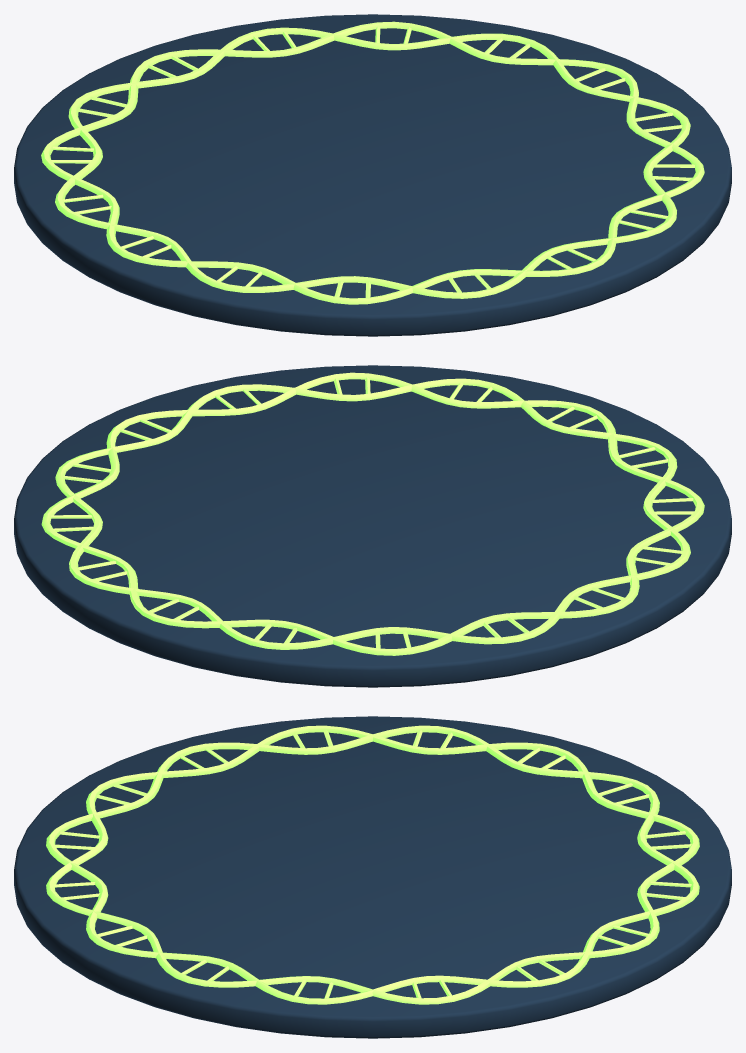
File: PlazaCentro.fbx
3 renders of one model, top to bottom at view 1: azimuth 30°, elevation 25°; view 2: azimuth 150°, elevation 25°; view 3: azimuth 270°, elevation 25°, orthographic.
Parts seen in each view (by area): view 1: PlazaCentro_Piso, PlazaCentro_Helice_Neon; view 2: PlazaCentro_Piso, PlazaCentro_Helice_Neon; view 3: PlazaCentro_Piso, PlazaCentro_Helice_Neon.
Boxes of the visible parts, bbox=[...] form: PlazaCentro_Piso: bbox=[14, 14, 731, 336]; PlazaCentro_Helice_Neon: bbox=[41, 21, 704, 304]; PlazaCentro_Piso: bbox=[14, 365, 731, 687]; PlazaCentro_Helice_Neon: bbox=[41, 372, 704, 655]; PlazaCentro_Piso: bbox=[14, 716, 731, 1038]; PlazaCentro_Helice_Neon: bbox=[46, 725, 699, 1004].
Size of the model in its own units: 30 by 1.2 by 30.
